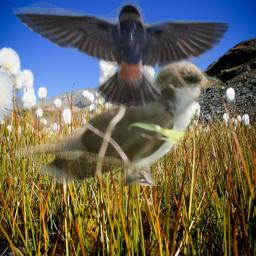Cuckoo: (14, 59, 223, 186)
Swallow: (7, 0, 233, 109)
